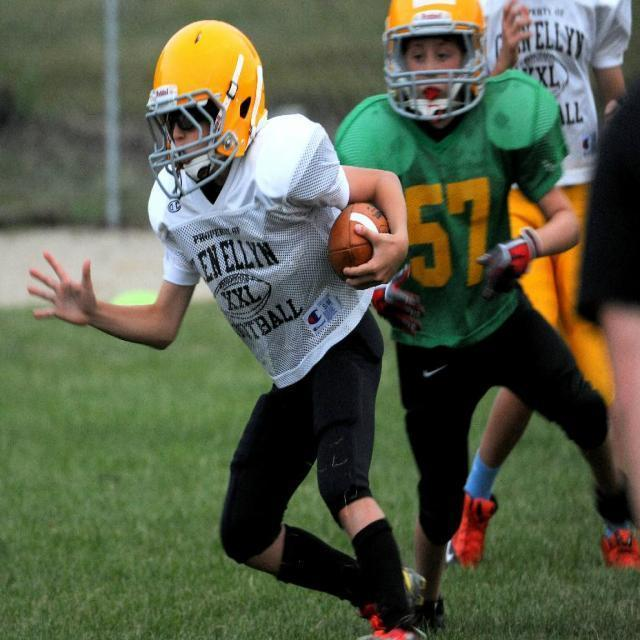ball: (331, 200, 393, 281)
